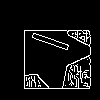I: (21, 25, 71, 54)
